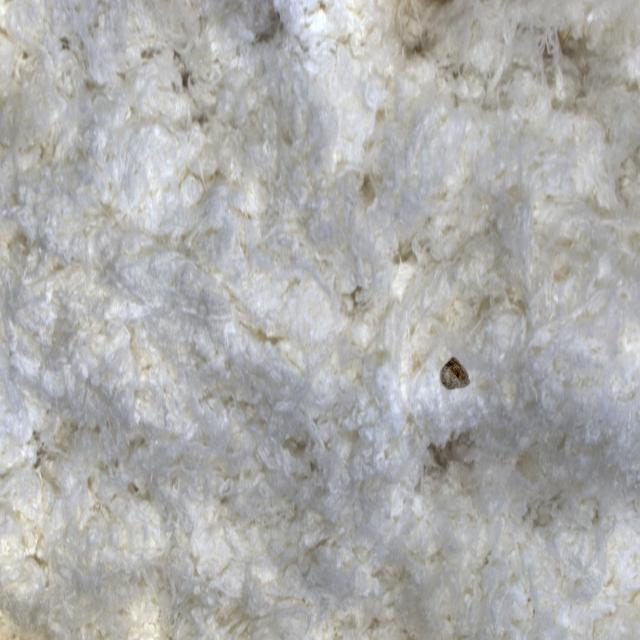dust: (413, 310, 501, 432)
